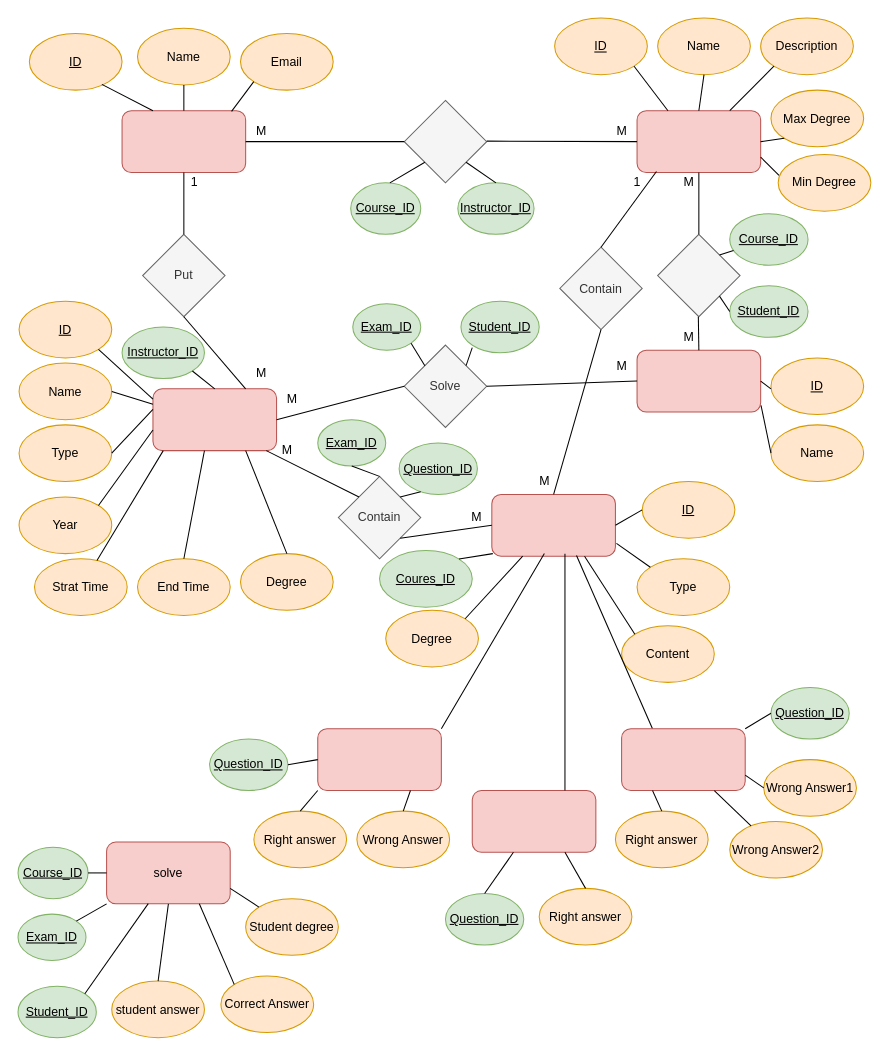
The diagram is 889 pixels wide and 1056 high, and some of its shapes have lost their labels. Here are the shapes that lost their labels. From the top down, the centre of each, then its label:
At point (183, 141): "Instructor".
At point (445, 141): "Teach".
At point (698, 141): "Course".
At point (698, 275): "Learn".
At point (698, 380): "Student".
At point (214, 419): "Exam".
At point (553, 524): "Question Bank".
At point (379, 759): "True/False".
At point (683, 759): "MCQ".
At point (533, 820): "Text".
